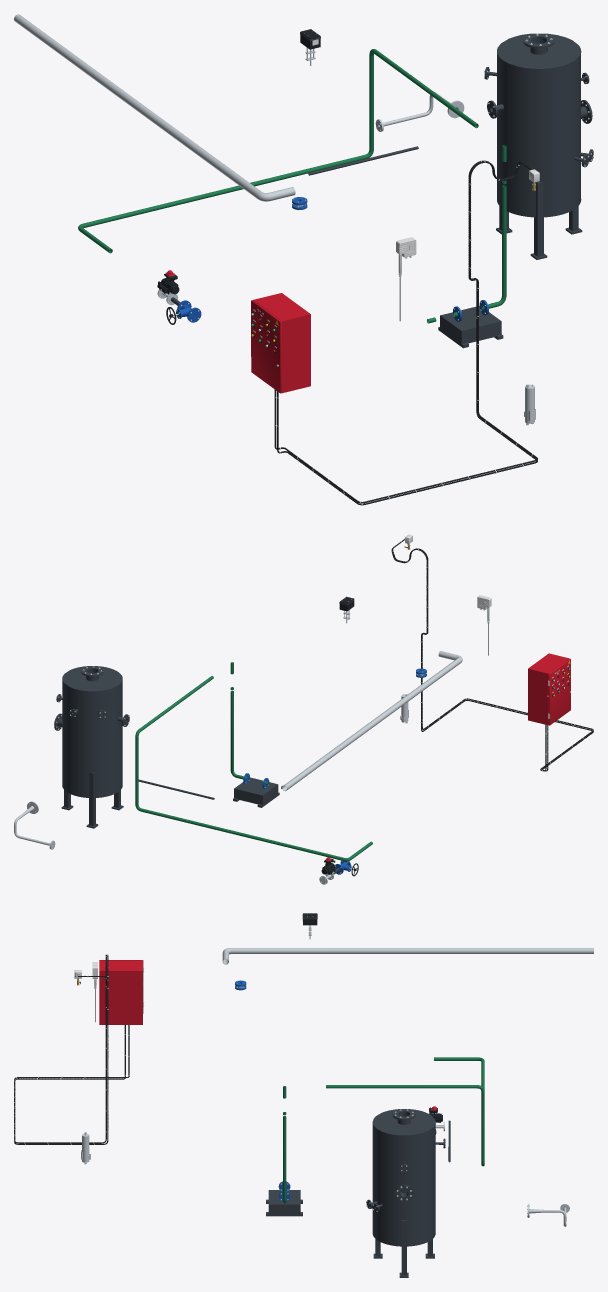
The picture shows the model from 3 angles, top to bottom: view 1: azimuth 30°, elevation 25°; view 2: azimuth 150°, elevation 25°; view 3: azimuth 270°, elevation 25°; orthographic projection. The views are drawn at different scales.
Visible parts, largest first — view 1: separator_bdv60_5 / dark, safety_vent_2 / steel, control_cabinet / control_cabinet_0.npz, to_economizer / green, cabinet_door / cabinet_door_5.npz, pump_branch_2 / dark, wiring_pressure_switch_2 / black, wiring_pressure_switch_1 / black, pump_branch_2 / green; view 2: separator_bdv60_5 / dark, to_economizer / green, safety_vent_2 / steel, control_cabinet / control_cabinet_0.npz, cabinet_door / cabinet_door_5.npz, pump_branch_2 / dark, wiring_pressure_switch_1 / black, wiring_pressure_switch_2 / black, pump_branch_2 / green; view 3: separator_bdv60_5 / dark, control_cabinet / control_cabinet_0.npz, safety_vent_2 / steel, to_economizer / green, wiring_pressure_switch_1 / black, wiring_pressure_switch_2 / black, pump_branch_2 / dark.
Part boxes in pixels (x1,y1,x2,y2): separator_bdv60_5 / dark: (484,33,593,259); safety_vent_2 / steel: (14,14,295,201); control_cabinet / control_cabinet_0.npz: (253,293,310,393); to_economizer / green: (78,49,478,253); cabinet_door / cabinet_door_5.npz: (251,300,281,393); pump_branch_2 / dark: (438,306,503,348); wiring_pressure_switch_2 / black: (274,161,537,503); wiring_pressure_switch_1 / black: (277,160,537,505); pump_branch_2 / green: (427,145,506,323); separator_bdv60_5 / dark: (54,666,129,828); to_economizer / green: (135,676,372,861); safety_vent_2 / steel: (282,651,462,791); control_cabinet / control_cabinet_0.npz: (528,653,569,725); cabinet_door / cabinet_door_5.npz: (548,658,570,725); pump_branch_2 / dark: (233,777,279,807); wiring_pressure_switch_1 / black: (391,539,593,771); wiring_pressure_switch_2 / black: (392,545,593,771); pump_branch_2 / green: (230,662,282,788); separator_bdv60_5 / dark: (366,1109,445,1277); control_cabinet / control_cabinet_0.npz: (99,960,143,1024); safety_vent_2 / steel: (222,948,593,964); to_economizer / green: (326,1057,484,1166); wiring_pressure_switch_1 / black: (14,954,125,1144); wiring_pressure_switch_2 / black: (14,954,129,1143); pump_branch_2 / dark: (266,1190,302,1216).
Bounding box in the file's own units: 5.38 × 3.24 × 7.03.
